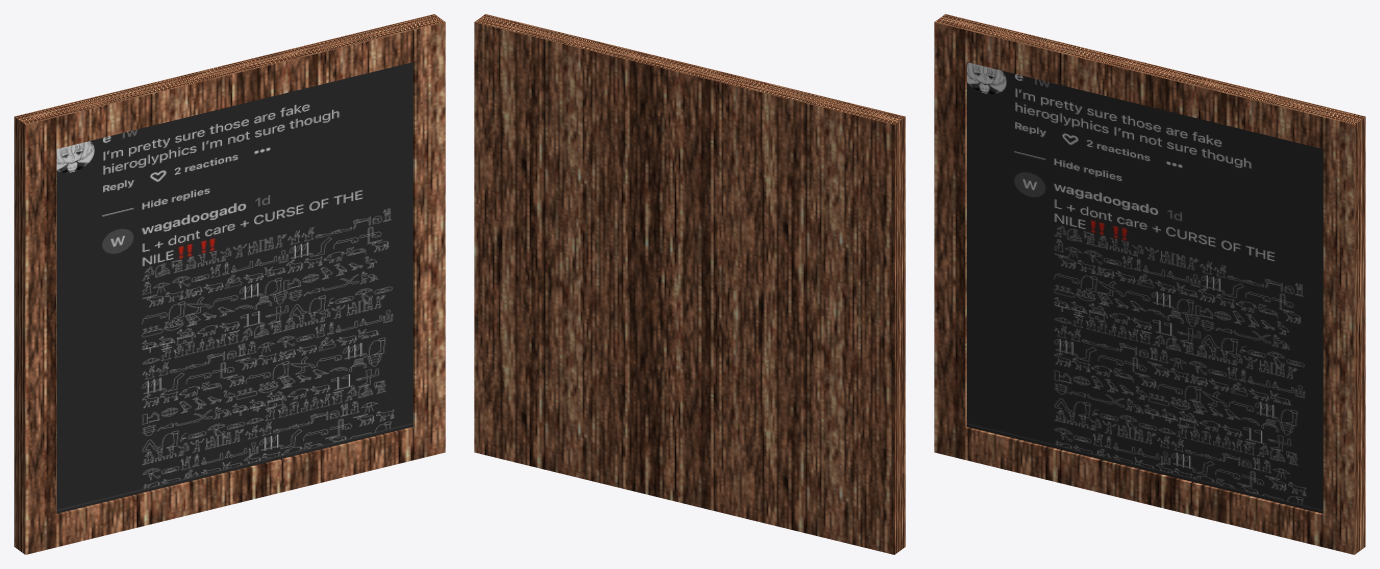
Rendered from nile meme photo frame (made by me).glb.
3 renders of one model, left to right at view 1: azimuth 30°, elevation 25°; view 2: azimuth 150°, elevation 25°; view 3: azimuth 330°, elevation 25°, orthographic.
Parts seen in each view (by area): view 1: Cube.001, Cube; view 2: Cube; view 3: Cube.001, Cube.
Part boxes in pixels (box(x1,y1,x2,y2)): Cube.001: box(56, 62, 412, 513); Cube: box(14, 14, 445, 554); Cube: box(474, 14, 905, 554); Cube.001: box(967, 62, 1323, 513); Cube: box(934, 14, 1365, 554).
Size of the model in its own units: 0.9781 by 0.9565 by 0.0455.
2 materials, 2 textured.
